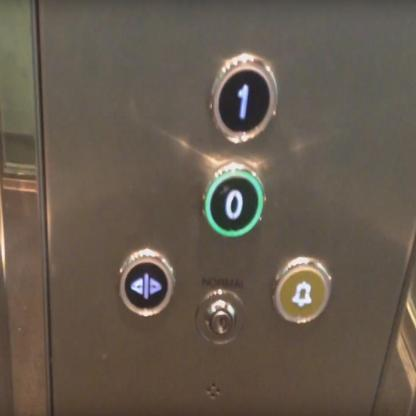0: (201, 162, 265, 238)
1: (210, 53, 277, 143)
alarm: (272, 256, 331, 324)
blur: (195, 290, 244, 343)
open: (118, 249, 174, 317)
